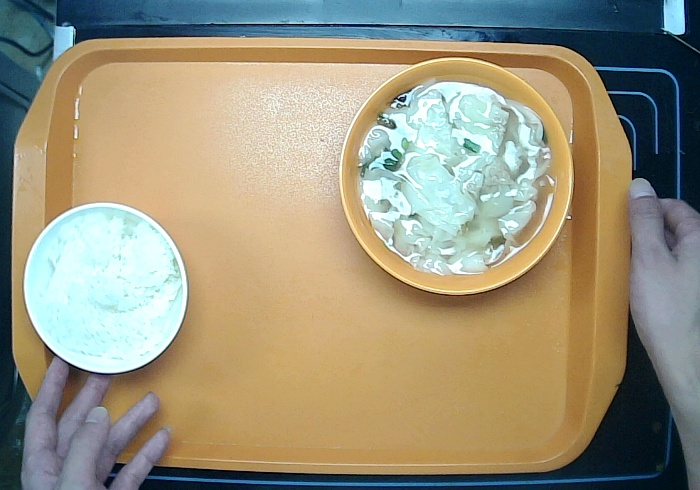NLDX-Fan_Wan: (19, 198, 191, 378)
NLDX-Hun_Tun_Wan: (332, 51, 580, 297)
